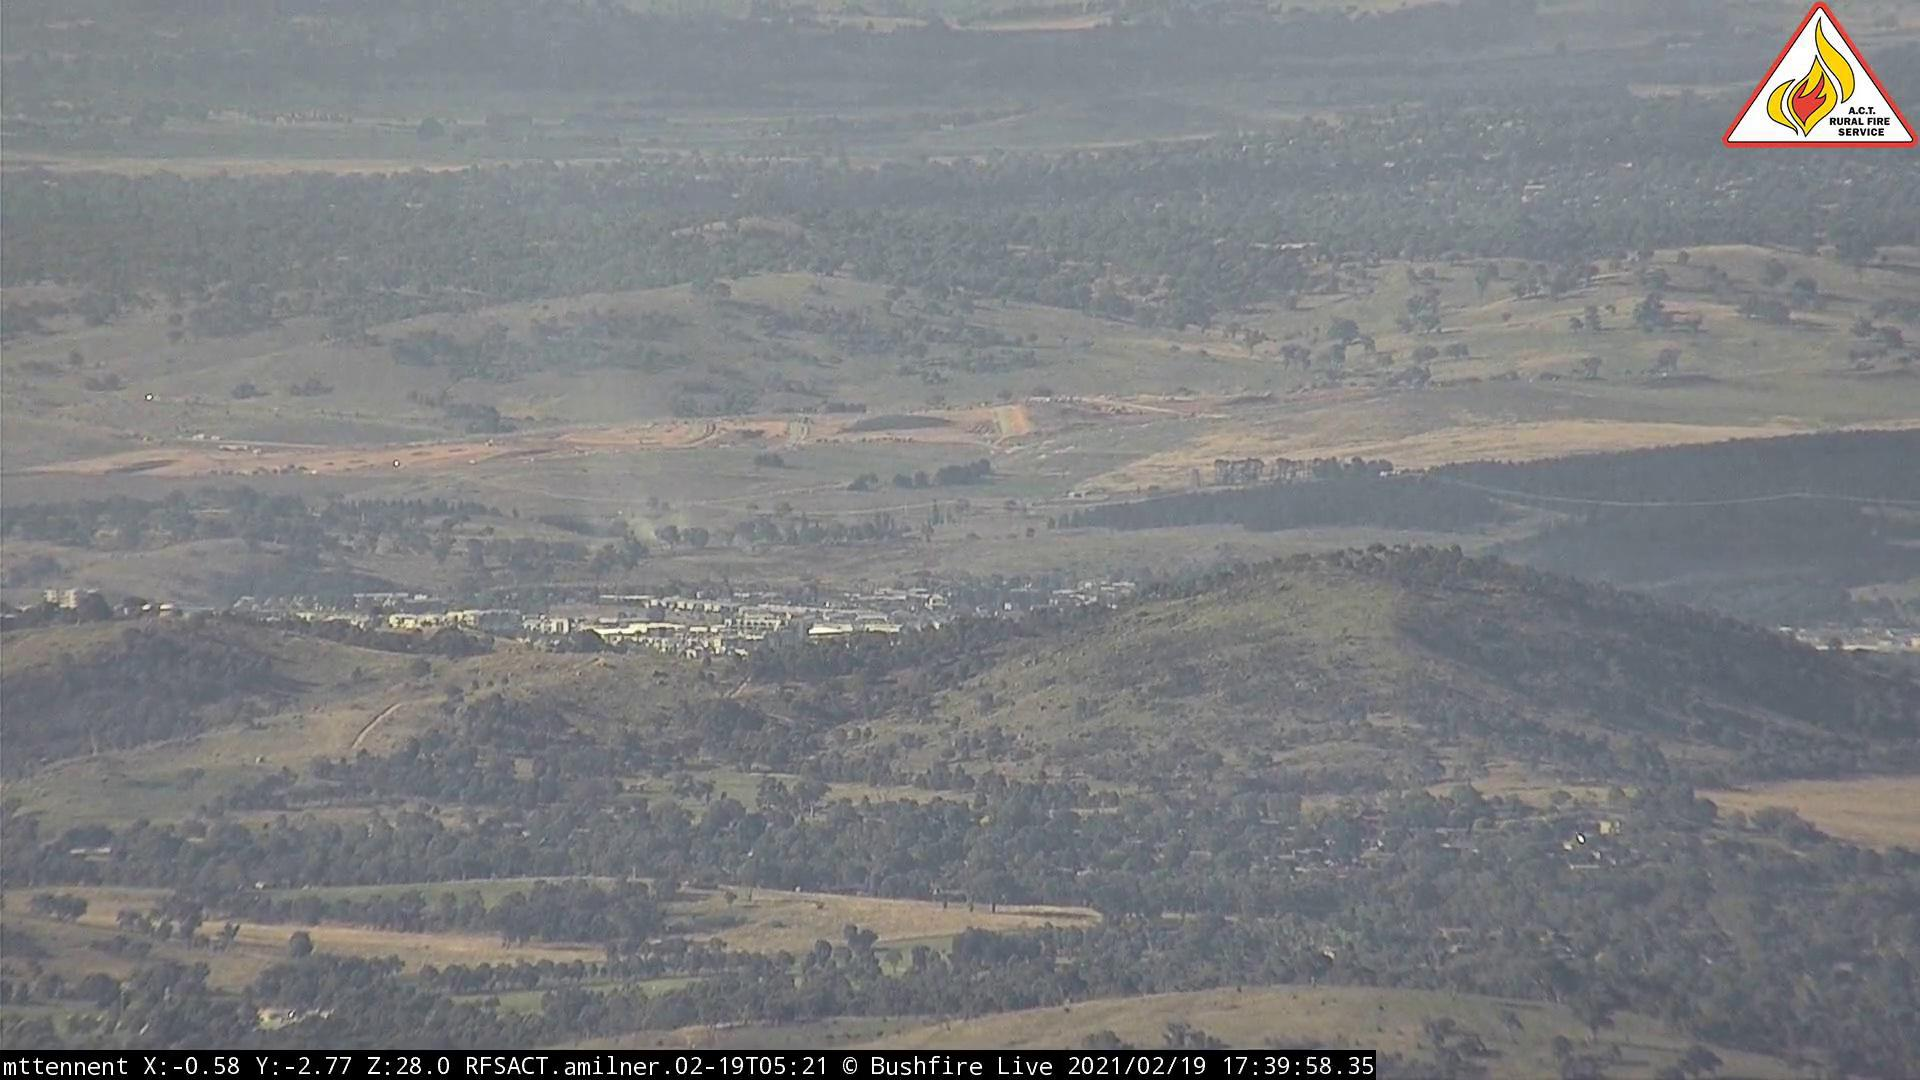Smoke: (582, 446, 702, 551), (825, 510, 869, 549)
